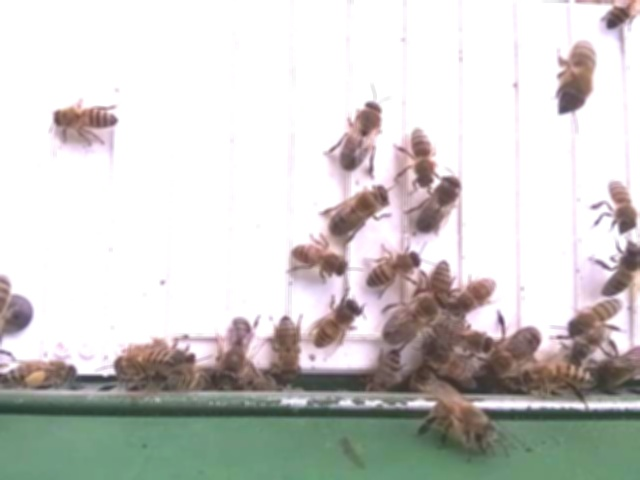Drone: (380, 285, 449, 346), (480, 322, 545, 382), (337, 95, 386, 174), (326, 182, 393, 238), (413, 172, 465, 235), (216, 313, 255, 386)
Worker: (412, 392, 501, 456), (310, 295, 367, 351), (443, 274, 500, 319), (363, 247, 423, 289), (268, 312, 306, 378), (519, 360, 597, 392), (601, 235, 640, 298), (289, 240, 350, 279), (568, 297, 626, 338), (602, 177, 640, 238), (406, 124, 439, 189), (433, 319, 496, 353), (116, 344, 186, 374), (49, 103, 121, 131), (430, 257, 453, 308)
